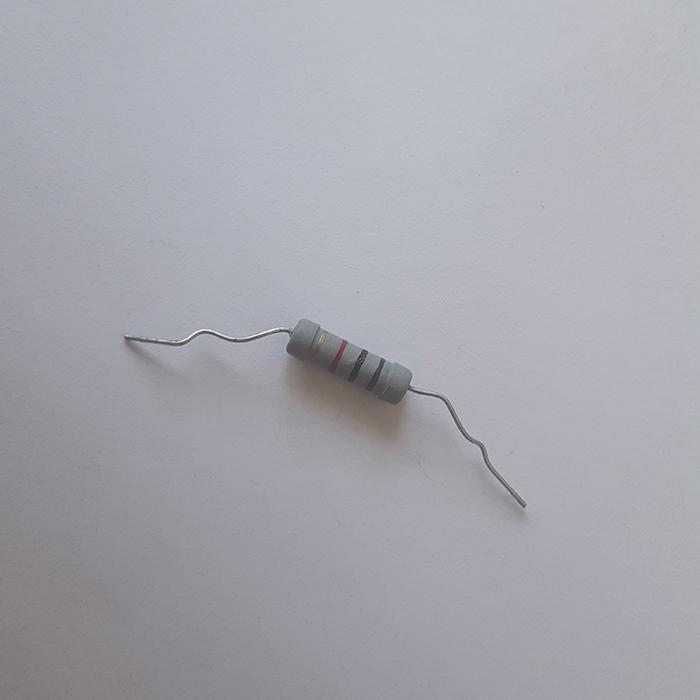resistor: (284, 316, 416, 404)
